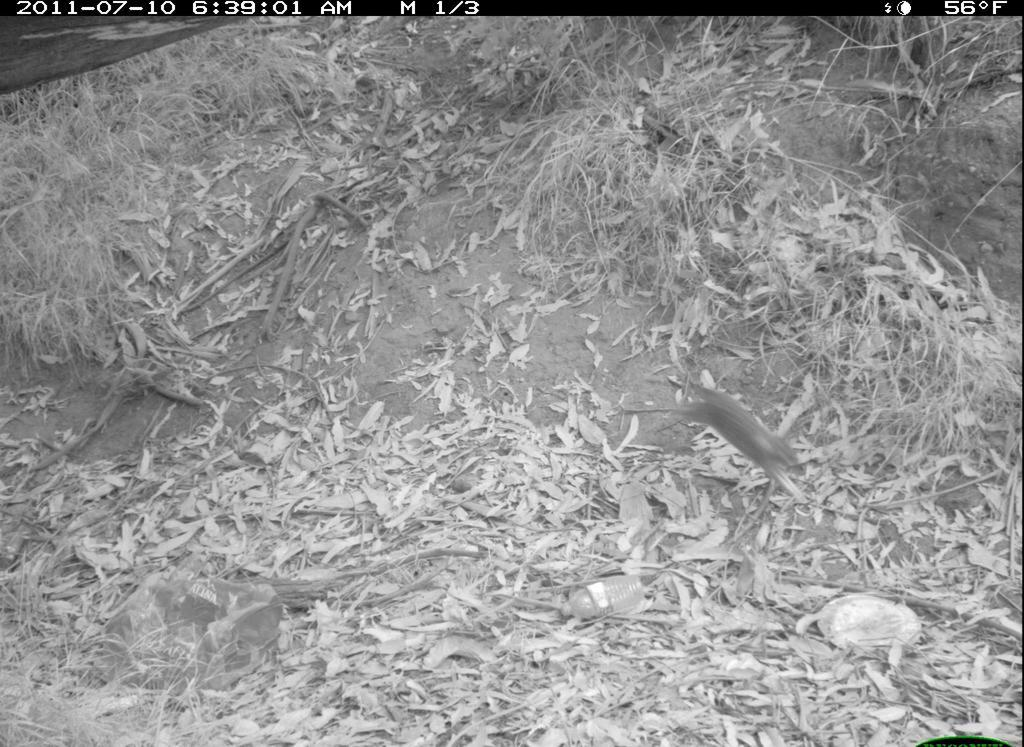rabbit: (644, 377, 818, 510)
